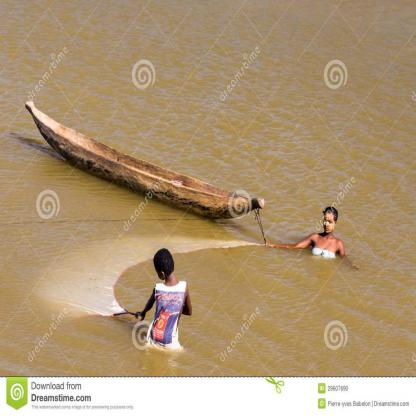face: (324, 214, 335, 233), (155, 263, 164, 281)
